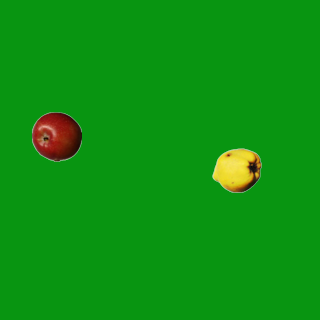Apple Braeburn: (31, 111, 81, 161)
Quince: (211, 145, 261, 195)
